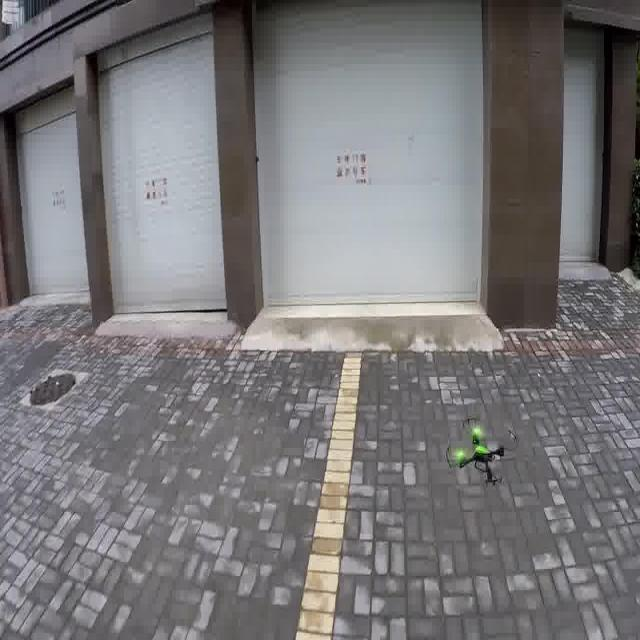drone: (443, 420, 525, 498)
